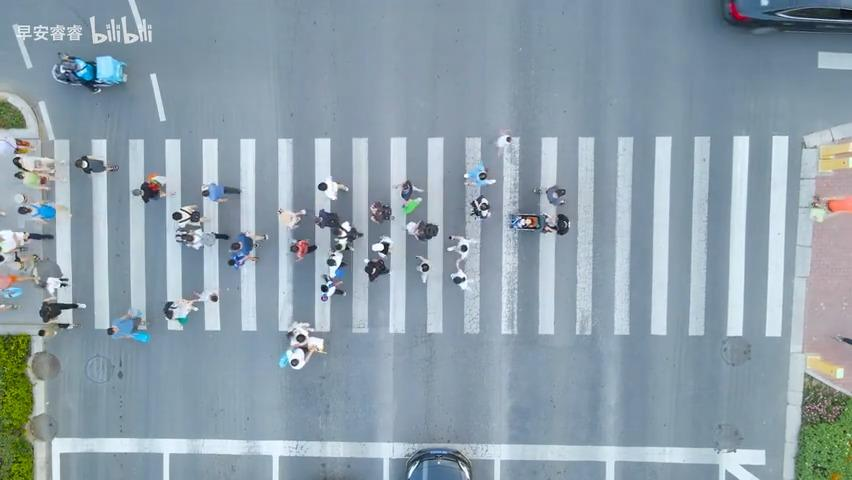Civilian: (53, 51, 128, 94), (278, 320, 326, 370), (227, 230, 268, 269), (106, 307, 150, 343), (131, 173, 175, 203), (17, 200, 72, 222), (809, 194, 851, 222), (38, 300, 86, 323), (490, 123, 518, 161), (447, 265, 478, 299), (163, 297, 199, 326), (447, 231, 478, 261), (200, 182, 242, 203), (392, 179, 424, 206), (74, 155, 119, 174), (463, 162, 496, 187), (317, 175, 349, 200), (320, 273, 346, 301), (405, 219, 438, 241), (37, 322, 81, 338), (276, 206, 306, 229), (0, 135, 36, 154), (314, 208, 344, 230), (363, 257, 389, 282), (289, 238, 317, 261), (541, 212, 569, 235), (369, 200, 393, 224), (468, 194, 490, 220), (201, 284, 223, 310), (509, 213, 540, 230), (414, 254, 430, 283), (545, 184, 566, 205)
